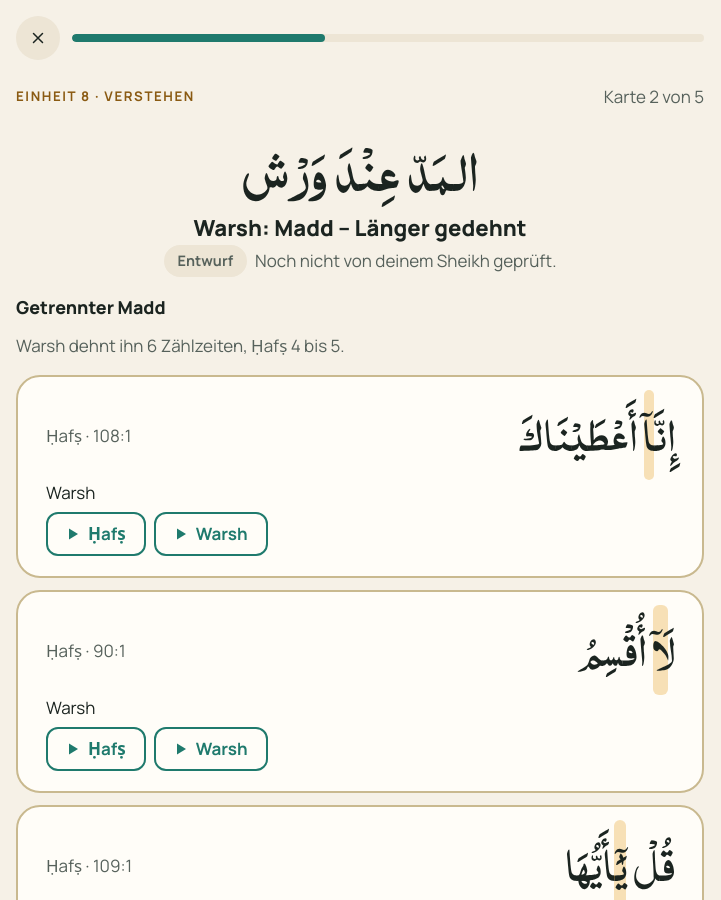
Test: unit 8 (riwāyāt) › stops the āya when the learner goes on to the next card
The image size is (721, 900).
What coordinates should you click on to do the following:
click the button with aria-label "Warsh anhören: Sūra 108, Āya 1"
I would click on:
 (211, 534)
Its box is top-left (154, 512), bottom-right (268, 556).
(page scrolled)
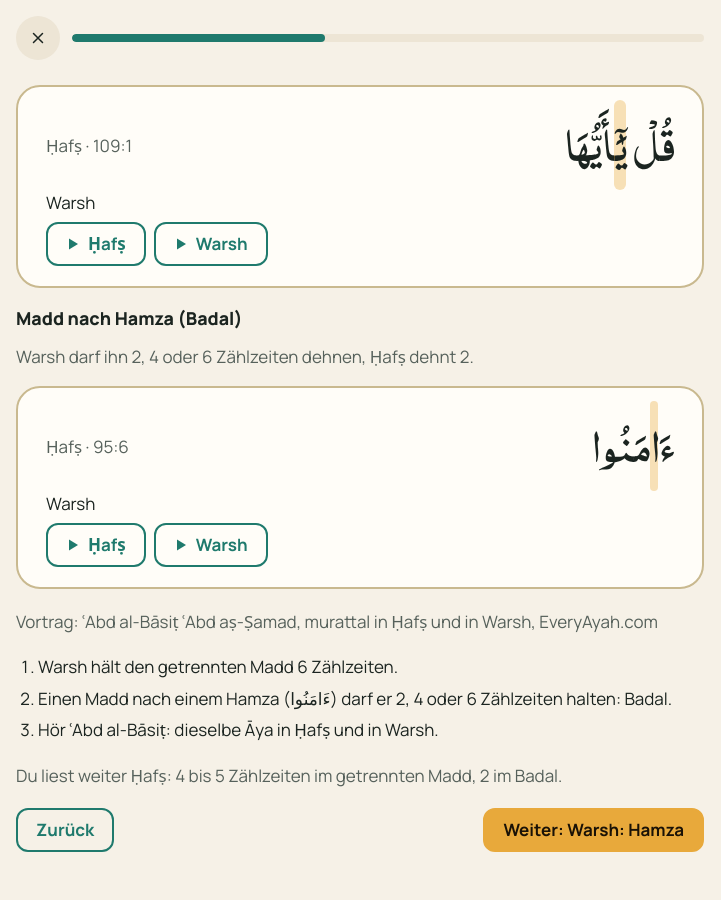
What coordinates should you click on to do the following:
click the link "Weiter: Warsh: Hamza"
I would click on:
 (594, 830)
Its box is top-left (484, 808), bottom-right (704, 852).
(page scrolled)
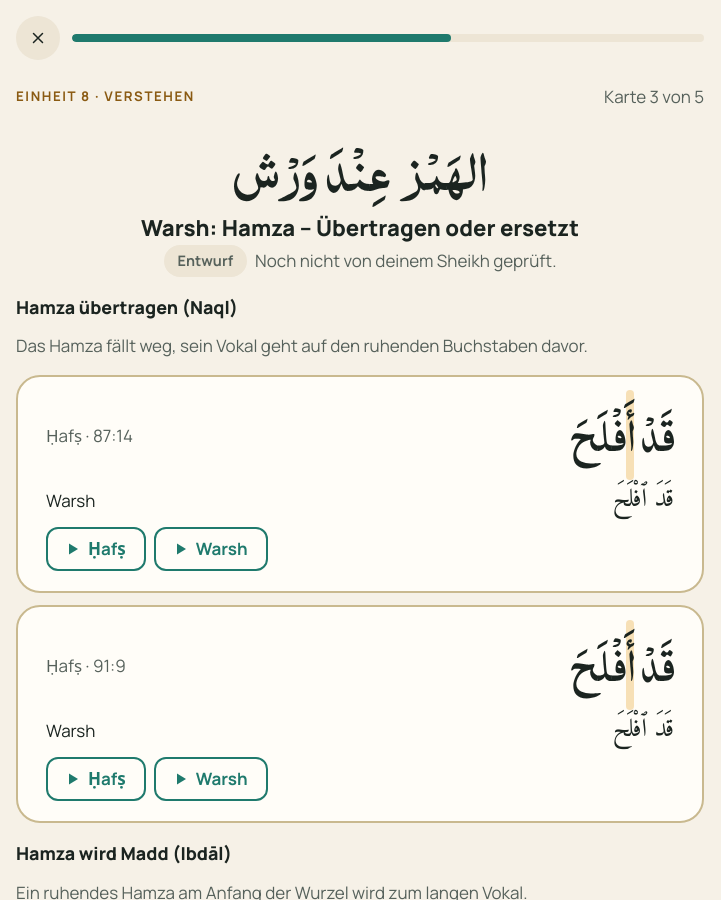
Check: the heading "Hamza übertragen (Naql)" is shown, box top-left (16, 294), bottom-right (238, 318)
